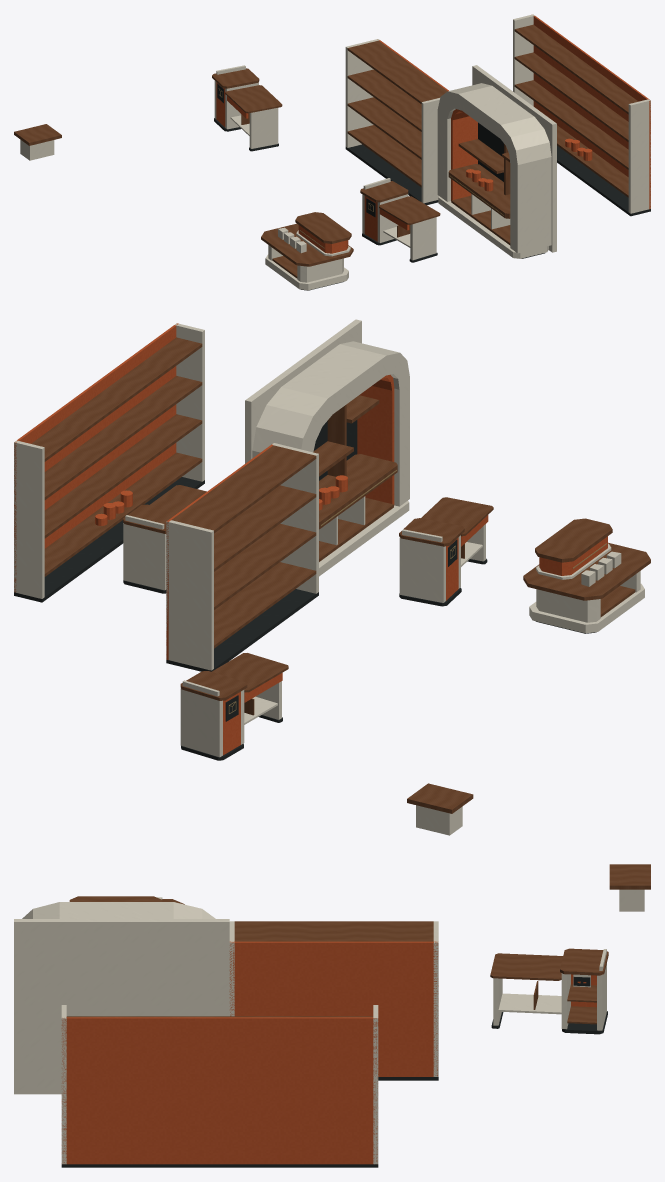
The model's file is SHOP_D09_P72_A340__fitout.glb.
3 views of the same model, one above another, from view 1: azimuth 30°, elevation 25°; view 2: azimuth 150°, elevation 25°; view 3: azimuth 270°, elevation 25° (orthographic). The views are drawn at different scales.
Parts seen in each view (by area): view 1: SHOP_D09_P72_A340__fitout__warm_walnut, SHOP_D09_P72_A340__fitout__ivory_enamel, SHOP_D09_P72_A340__fitout__retail_terracotta_enamel, SHOP_D09_P72_A340__fitout__dark_rubber; view 2: SHOP_D09_P72_A340__fitout__warm_walnut, SHOP_D09_P72_A340__fitout__ivory_enamel, SHOP_D09_P72_A340__fitout__retail_terracotta_enamel, SHOP_D09_P72_A340__fitout__dark_rubber; view 3: SHOP_D09_P72_A340__fitout__retail_terracotta_enamel, SHOP_D09_P72_A340__fitout__ivory_enamel, SHOP_D09_P72_A340__fitout__warm_walnut, SHOP_D09_P72_A340__fitout__dark_rubber.
Boxes of the visible parts, left/top/right/bottom form: SHOP_D09_P72_A340__fitout__warm_walnut: left=14, top=24, right=638, bottom=278; SHOP_D09_P72_A340__fitout__ivory_enamel: left=20, top=14, right=650, bottom=290; SHOP_D09_P72_A340__fitout__retail_terracotta_enamel: left=216, top=16, right=650, bottom=253; SHOP_D09_P72_A340__fitout__dark_rubber: left=214, top=83, right=650, bottom=290; SHOP_D09_P72_A340__fitout__warm_walnut: left=31, top=337, right=650, bottom=813; SHOP_D09_P72_A340__fitout__ivory_enamel: left=14, top=319, right=644, bottom=835; SHOP_D09_P72_A340__fitout__retail_terracotta_enamel: left=14, top=323, right=607, bottom=755; SHOP_D09_P72_A340__fitout__dark_rubber: left=14, top=420, right=596, bottom=760; SHOP_D09_P72_A340__fitout__retail_terracotta_enamel: left=61, top=941, right=596, bottom=1164; SHOP_D09_P72_A340__fitout__ivory_enamel: left=14, top=889, right=644, bottom=1164; SHOP_D09_P72_A340__fitout__warm_walnut: left=66, top=864, right=650, bottom=1024; SHOP_D09_P72_A340__fitout__dark_rubber: left=61, top=977, right=607, bottom=1167.
Size of the model in its own units: 10.25 by 3 by 10.05.
5 materials, 5 textured.
